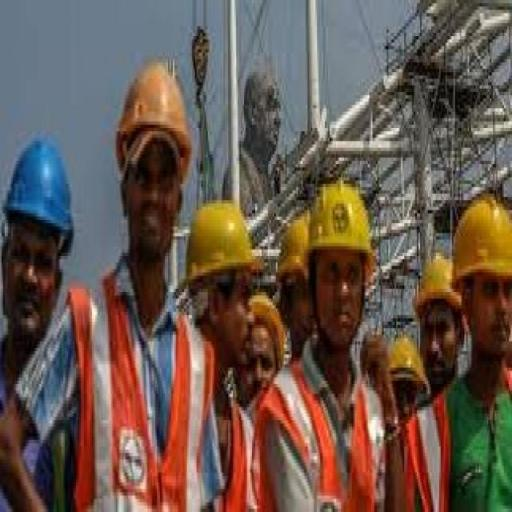helmet: (111, 52, 195, 164), (0, 128, 79, 243), (300, 168, 382, 269), (181, 190, 260, 289), (448, 186, 512, 292), (409, 243, 468, 328)
vest: (76, 269, 211, 512), (266, 334, 402, 512), (0, 289, 98, 512)
